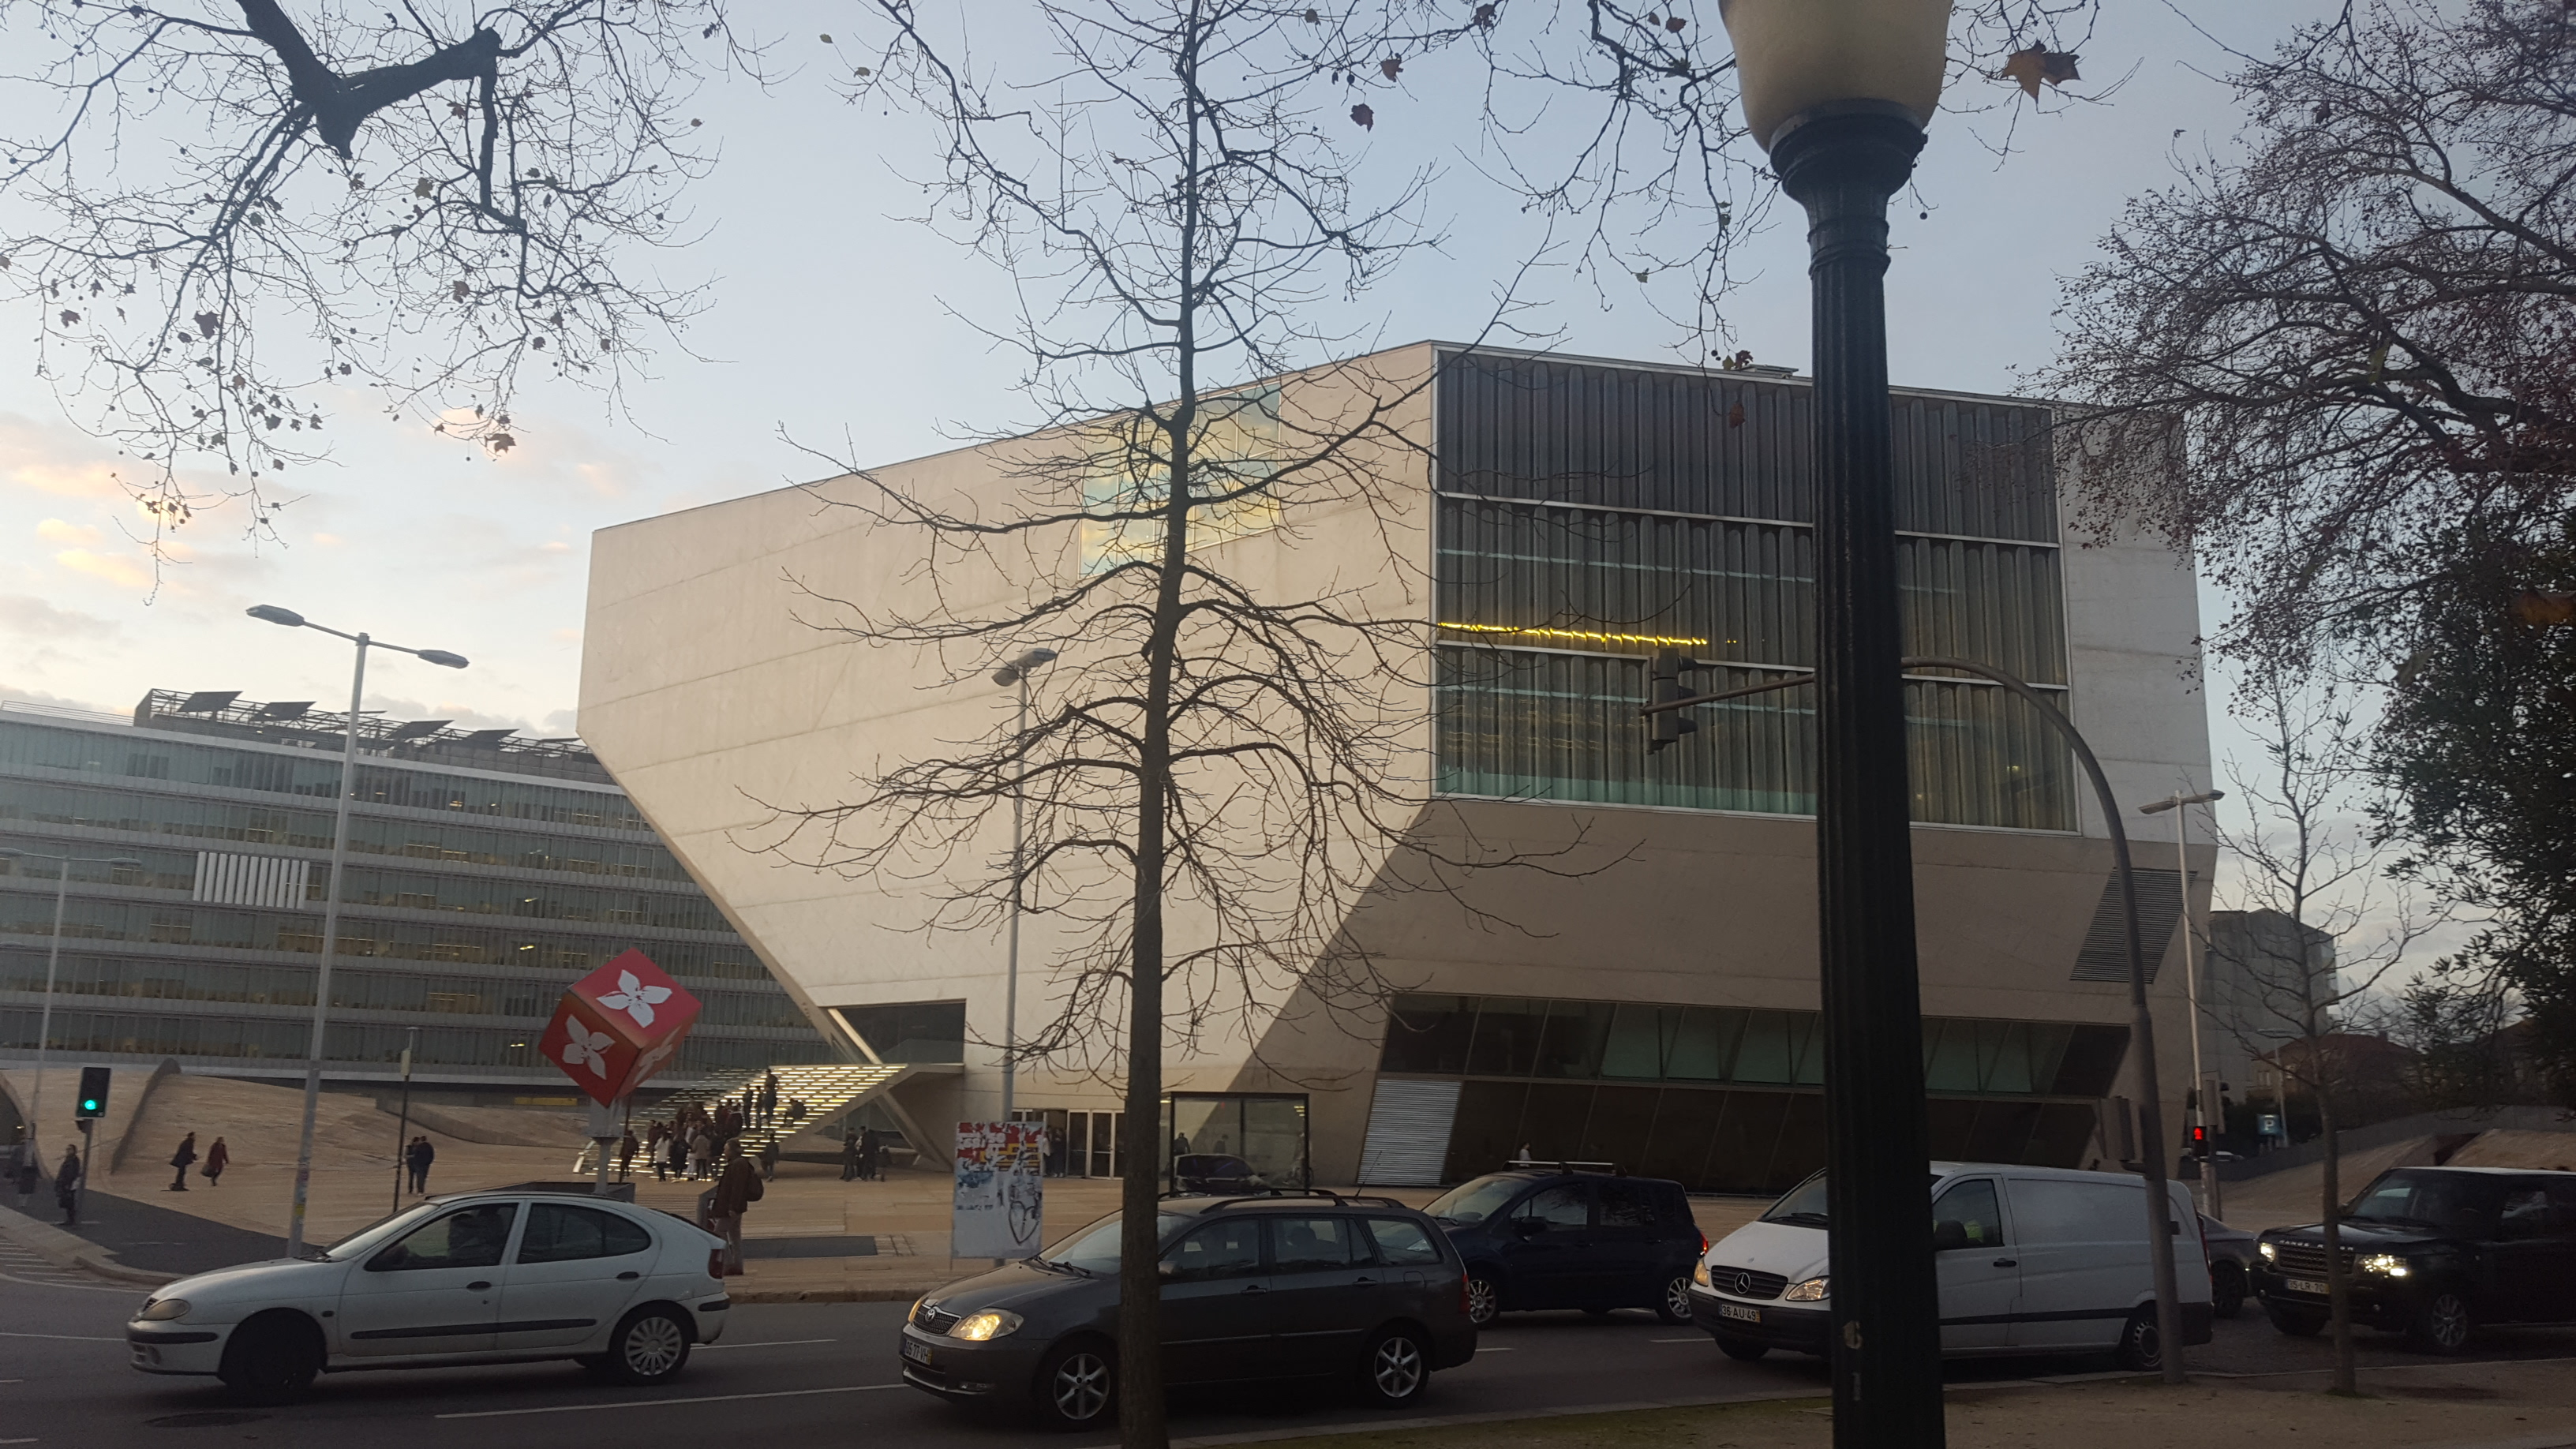musica: (587, 336, 1654, 828)
